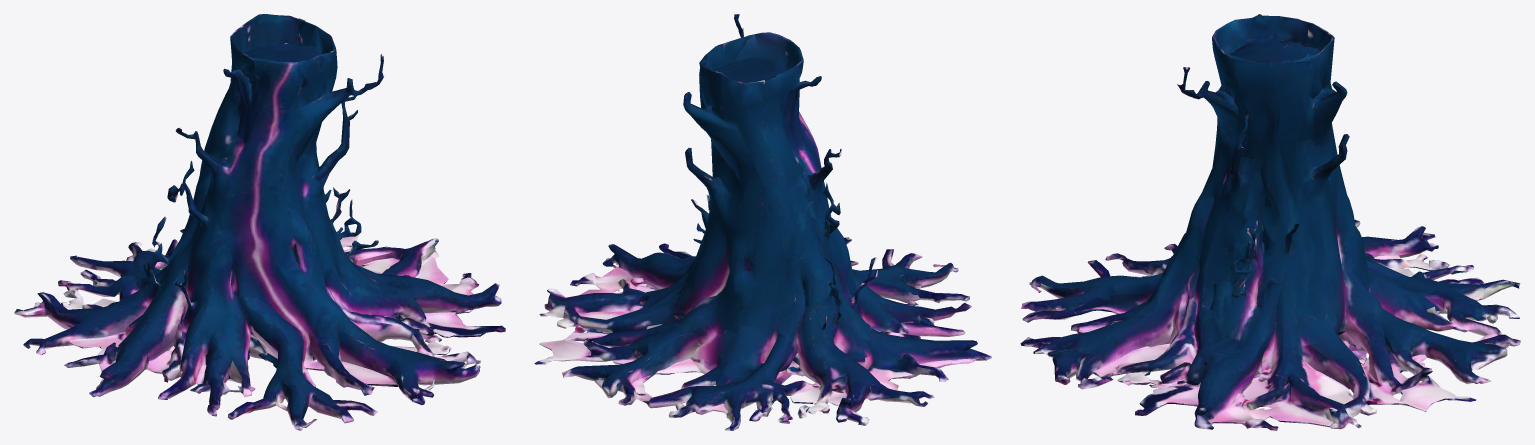
The model's file is sea-root-north-generated-2026-05-17T19-28-31-825Z.low.glb.
The picture shows the model from 3 angles, left to right: view 1: azimuth 30°, elevation 25°; view 2: azimuth 150°, elevation 25°; view 3: azimuth 270°, elevation 25°; orthographic projection. The views are drawn at different scales.
Parts seen in each view (by area): view 1: temp_mesh.ply; view 2: temp_mesh.ply; view 3: temp_mesh.ply.
Boxes of the visible parts, x1=… form: temp_mesh.ply: x1=14, y1=14, x2=505, y2=430; temp_mesh.ply: x1=534, y1=14, x2=991, y2=430; temp_mesh.ply: x1=1020, y1=14, x2=1520, y2=430.
Bounding box in the file's own units: 1.95 × 1.35 × 1.97.
Materials: 1 (1 with a texture image).
